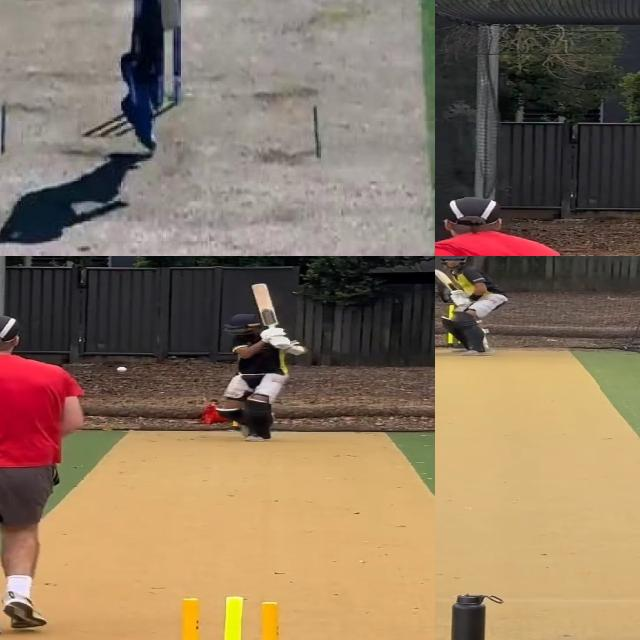Cricket ball: (116, 366, 128, 373)
Stumps: (156, 594, 298, 640)
